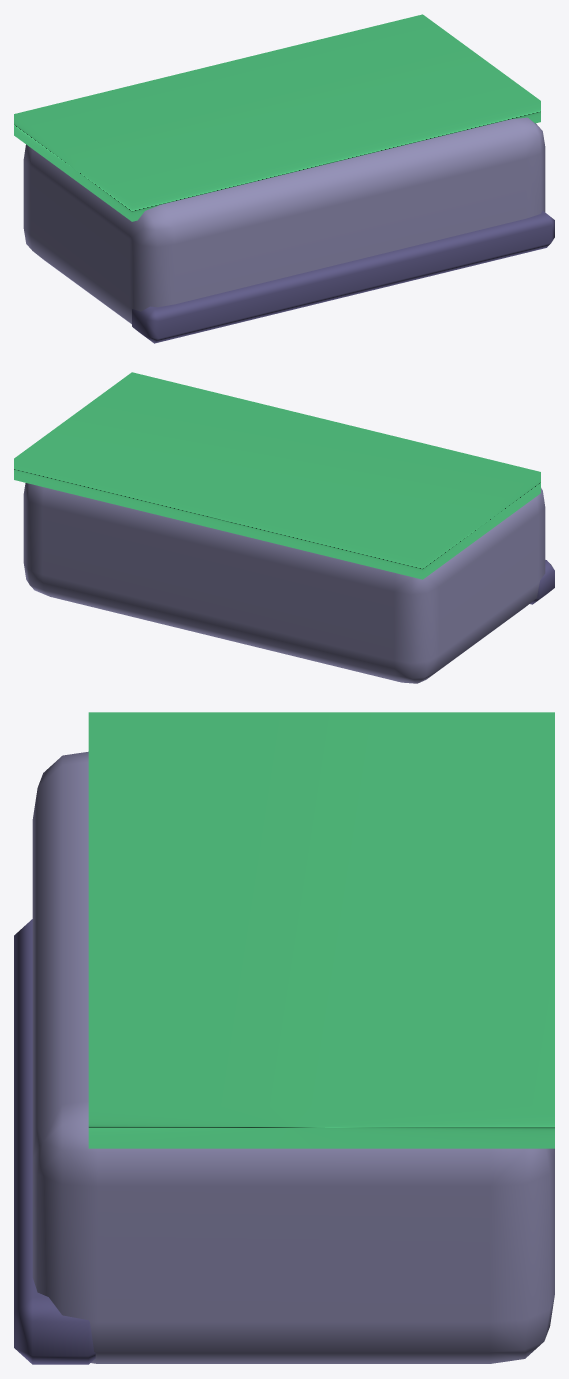
File: ledge.glb
The picture shows the model from 3 angles, top to bottom: view 1: azimuth 30°, elevation 25°; view 2: azimuth 150°, elevation 25°; view 3: azimuth 270°, elevation 25°; orthographic projection. The views are drawn at different scales.
Visible parts, largest first — view 1: Ledge.001; view 2: Ledge.001; view 3: Ledge.001.
Boxes of the visible parts, <box> form: Ledge.001: <box>14,14,554,343</box>; Ledge.001: <box>14,372,554,683</box>; Ledge.001: <box>14,712,554,1364</box>.
Bounding box in the file's own units: 1 × 0.325 × 0.58.
